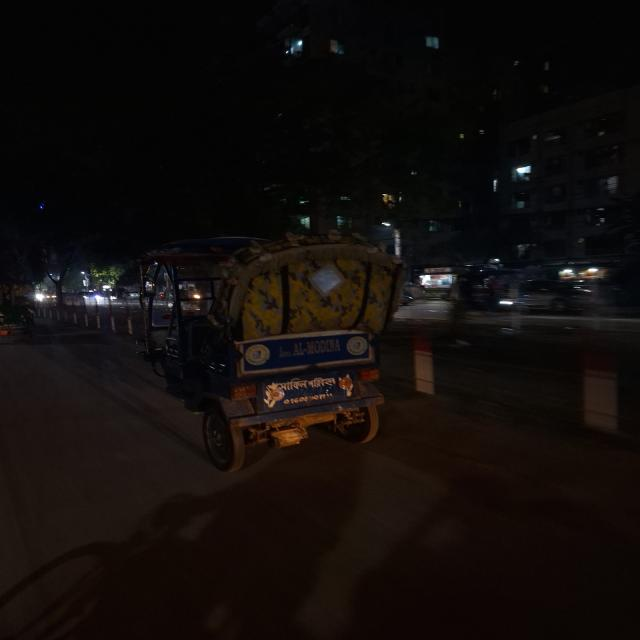car: (466, 269, 598, 317)
rickshaw: (126, 231, 416, 479)
